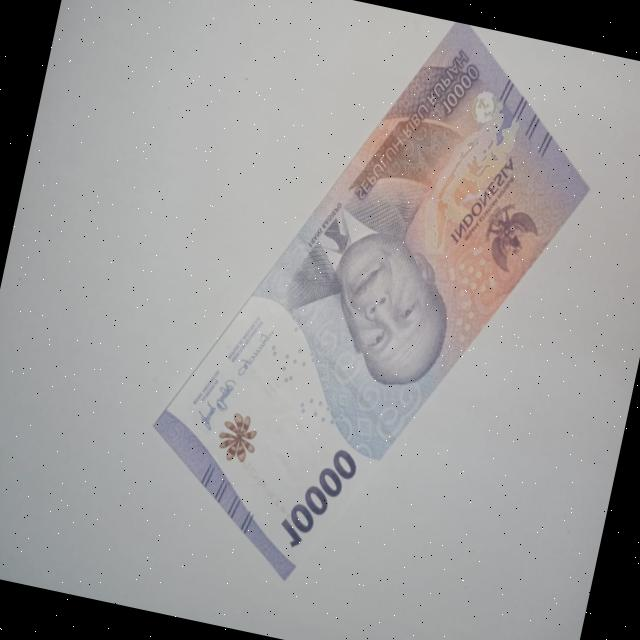10K: (115, 0, 623, 636)
